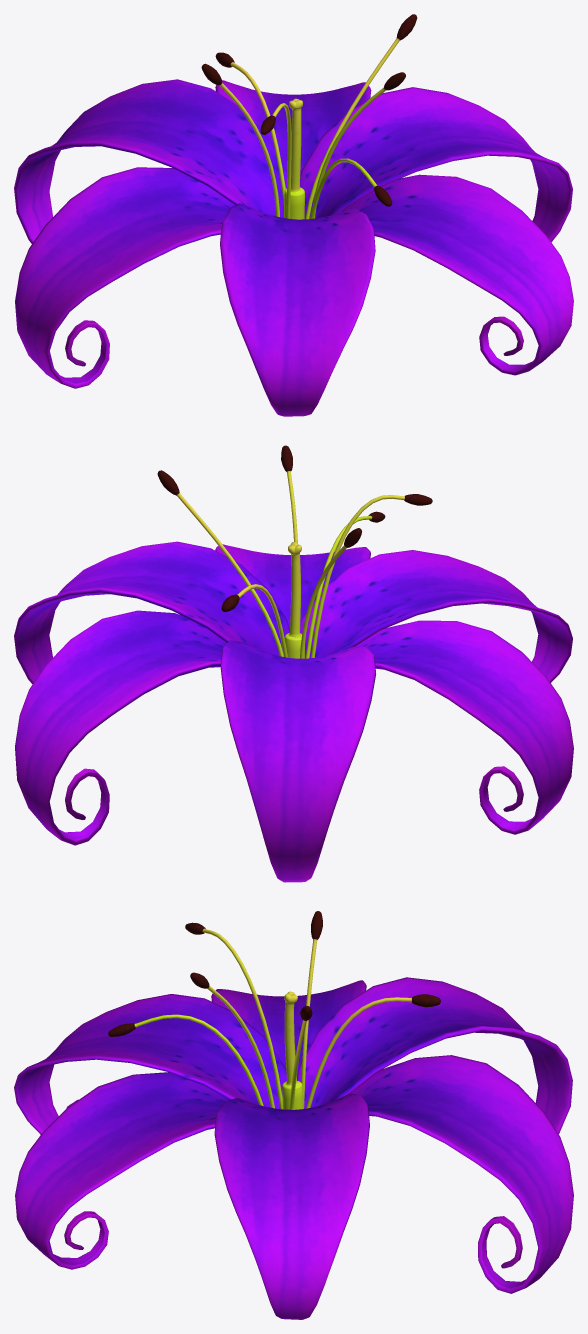
The picture shows the model from 3 angles, top to bottom: view 1: azimuth 30°, elevation 25°; view 2: azimuth 150°, elevation 25°; view 3: azimuth 270°, elevation 25°; orthographic projection.
Parts seen in each view (by area): view 1: Lily.057; view 2: Lily.057; view 3: Lily.057.
Part boxes in pixels (x1,y1,x2,y2): Lily.057: (14,14,573,416); Lily.057: (14,445,573,882); Lily.057: (14,911,573,1319).
Bounding box in the file's own units: 0.5 × 0.2654 × 0.4613.
2 materials, 2 textured.
